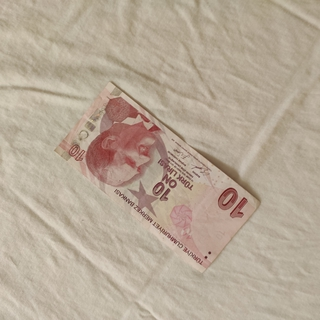10TLFront: (52, 80, 261, 274)
